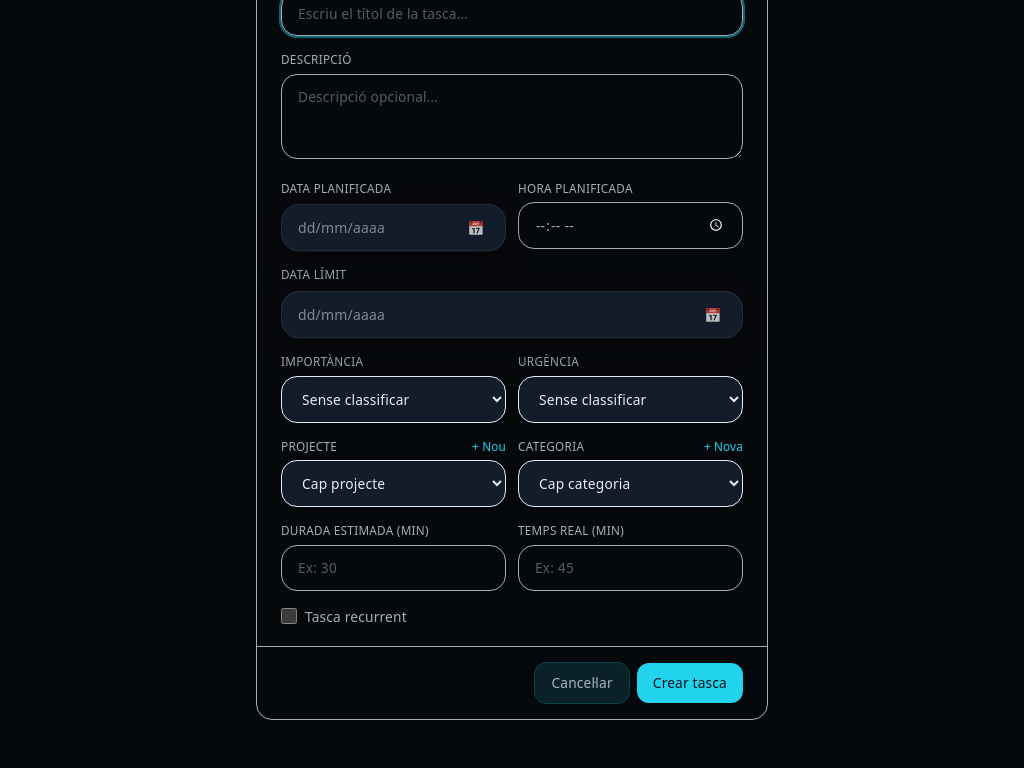
Test case: TaskFormModal › renders create form and validates required title
(page scrolled)
Click the button "Crear tasca" at (690, 683), box [637,663,743,703]
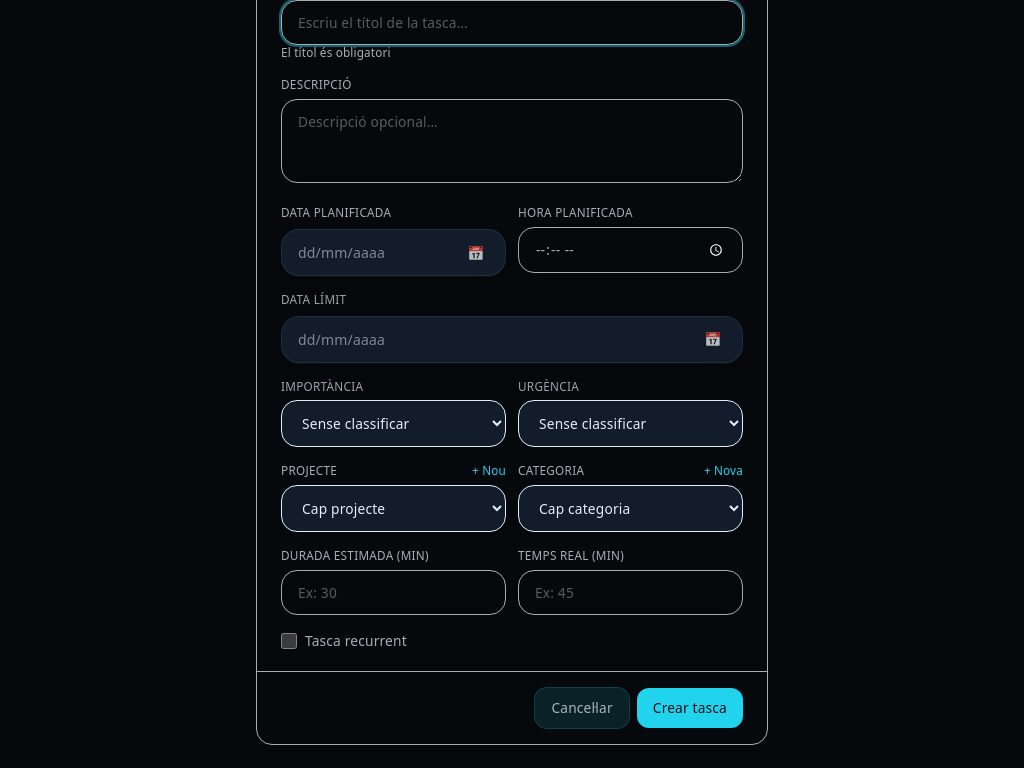
Expected: the text "El títol és obligatori" is shown, [281,44,391,60]
